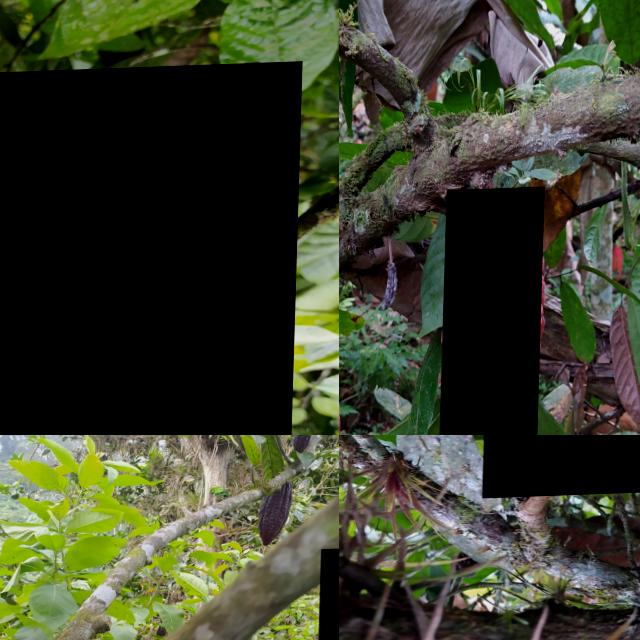Fitoftora: (441, 189, 546, 435)
Monilia: (0, 65, 303, 435)
Sana: (256, 483, 293, 549), (291, 435, 316, 456), (339, 389, 346, 435)
